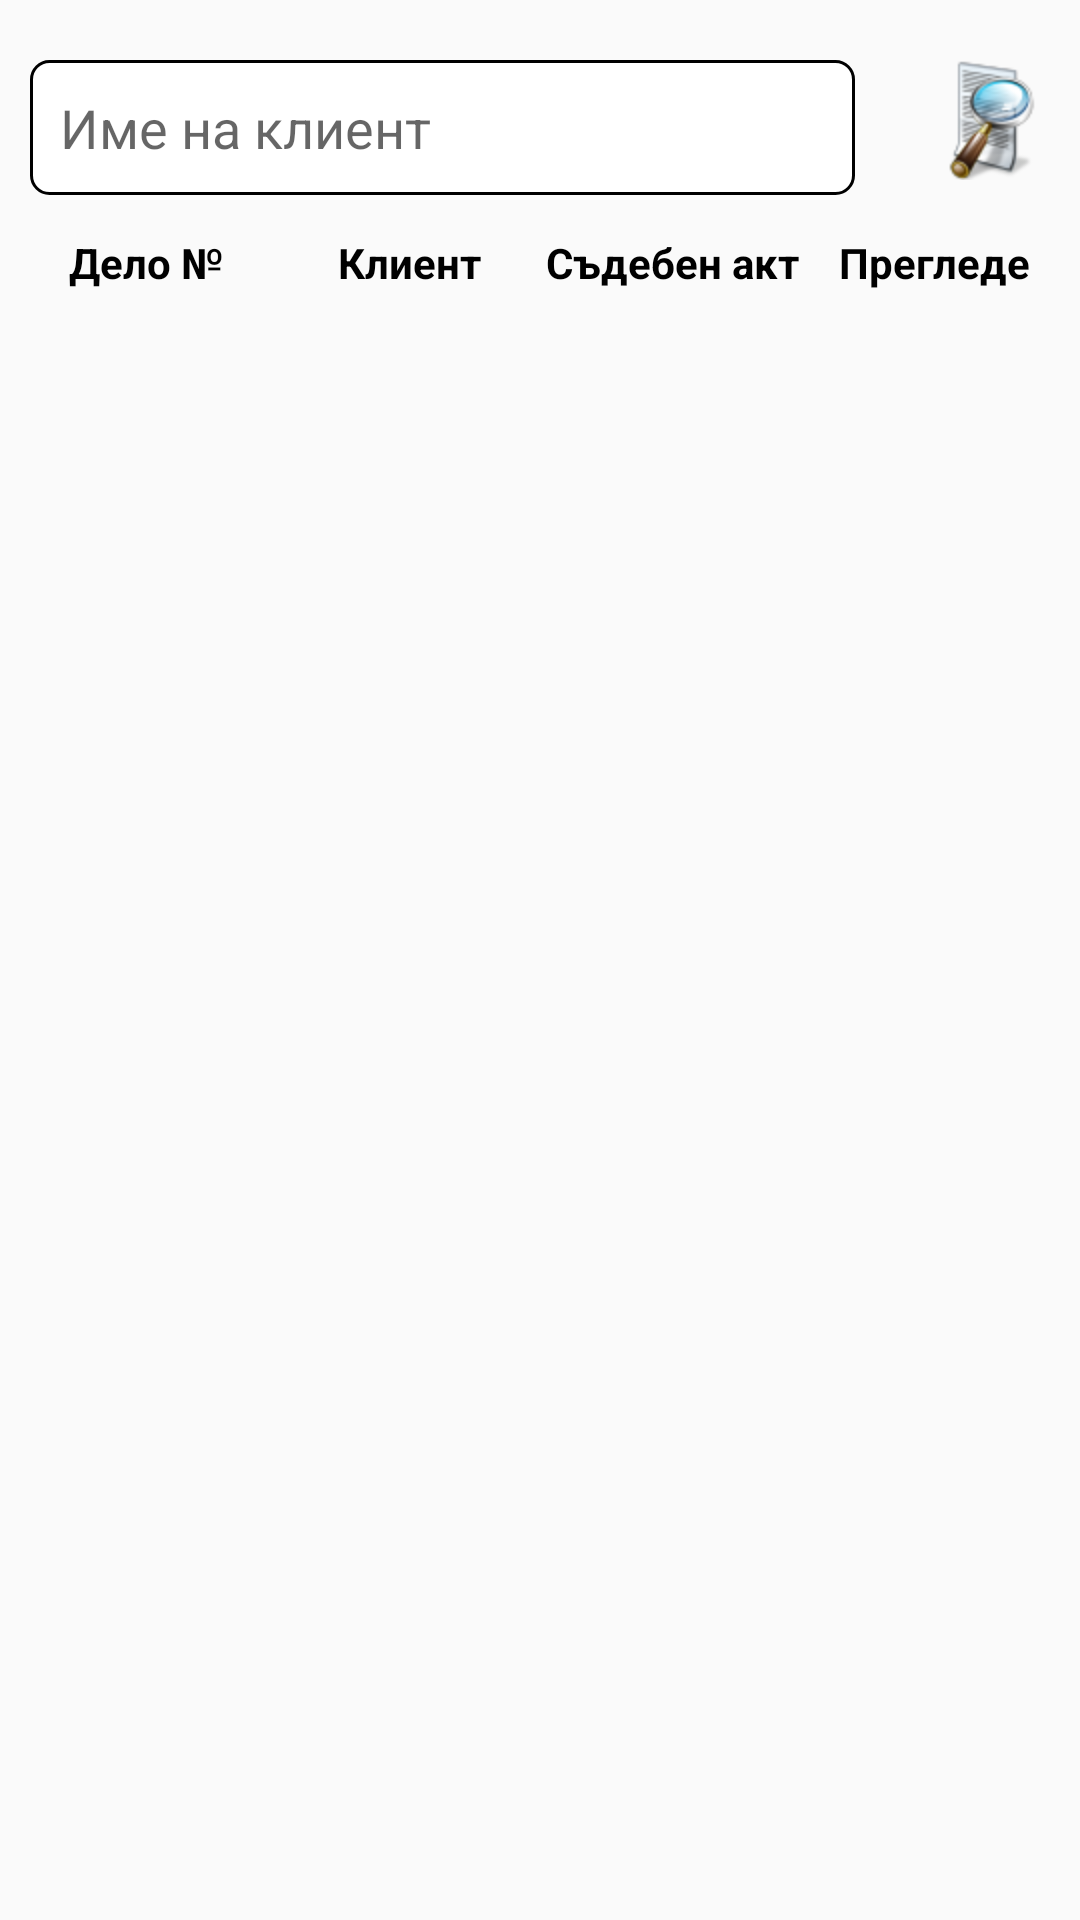

Icons on this 1080 x 1920 Android screen, each with its box as detection(x1, y1, x2, y2):
search: detection(949, 62, 1034, 180)
